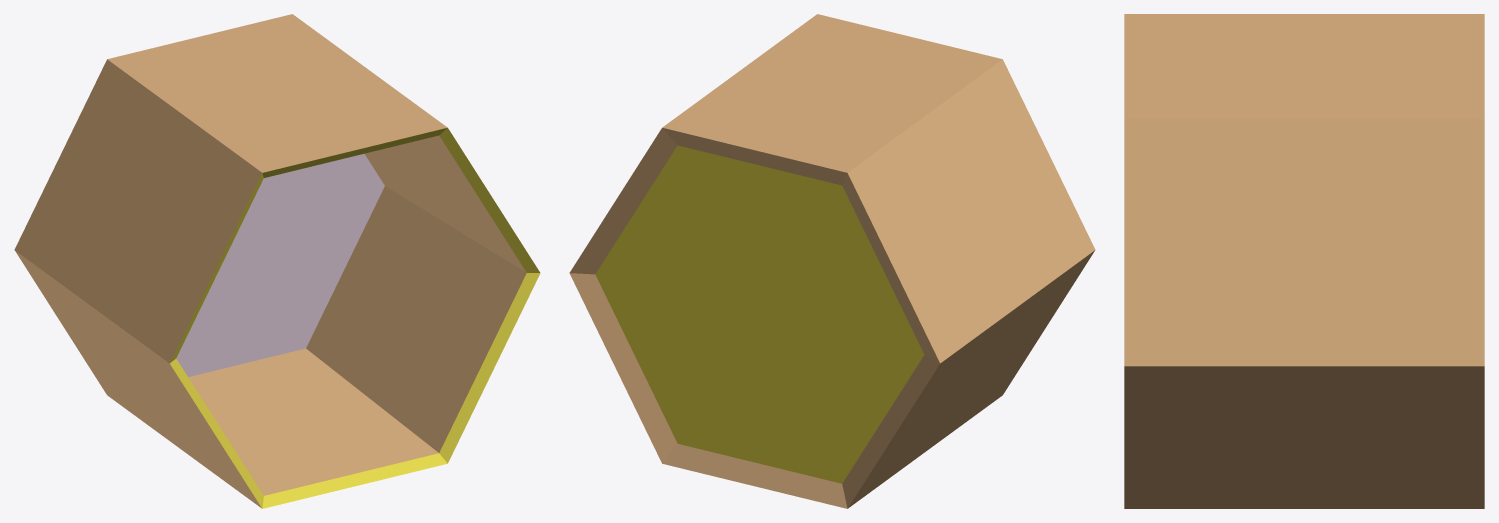
File: BeehivePink-transformed.glb
The picture shows the model from 3 angles, left to right: view 1: azimuth 30°, elevation 25°; view 2: azimuth 150°, elevation 25°; view 3: azimuth 270°, elevation 25°; orthographic projection. The views are drawn at different scales.
Parts seen in each view (by area): view 1: pCylinder2.002; view 2: pCylinder2.002; view 3: pCylinder2.002.
Part boxes in pixels (<box>): pCylinder2.002: <box>14,14,540,508</box>; pCylinder2.002: <box>569,14,1095,508</box>; pCylinder2.002: <box>1124,14,1484,508</box>.
Bounding box in the file's own units: 0.02 × 0.0173 × 0.0145.
